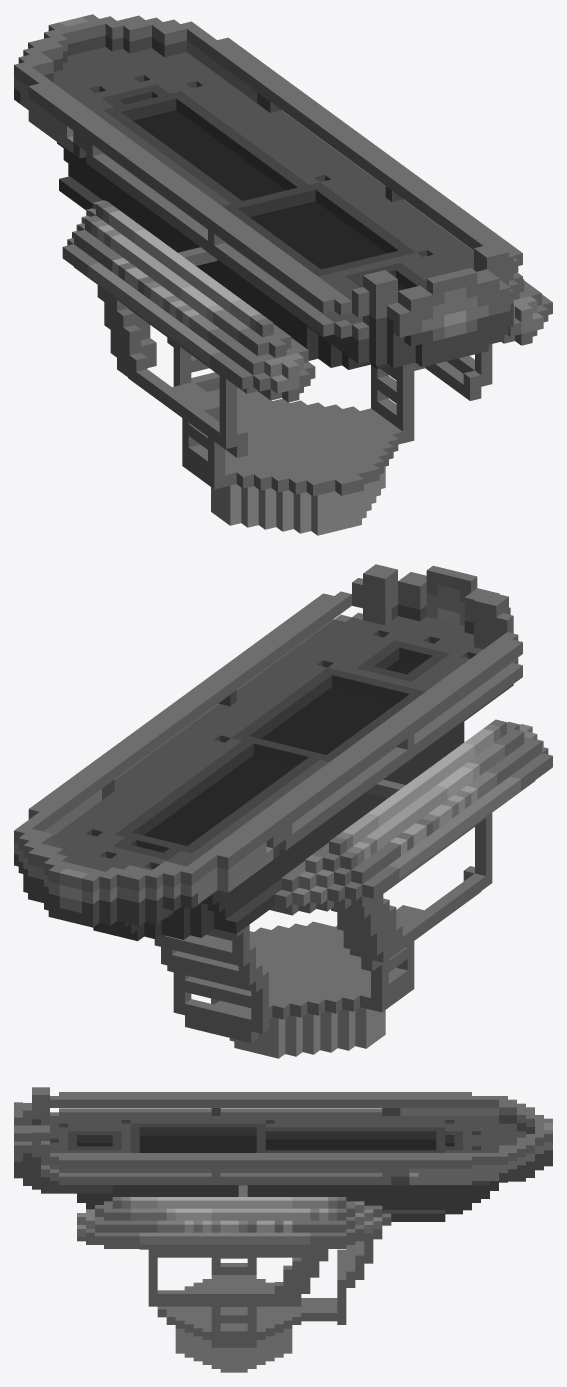
Rendered from Sleep Pod 5.obj.
3 renders of one model, top to bottom at view 1: azimuth 30°, elevation 25°; view 2: azimuth 150°, elevation 25°; view 3: azimuth 270°, elevation 25°, orthographic. The views are drawn at different scales.
Size of the model in its own units: 28 by 29 by 60.
Materials: 1 (1 with a texture image).
